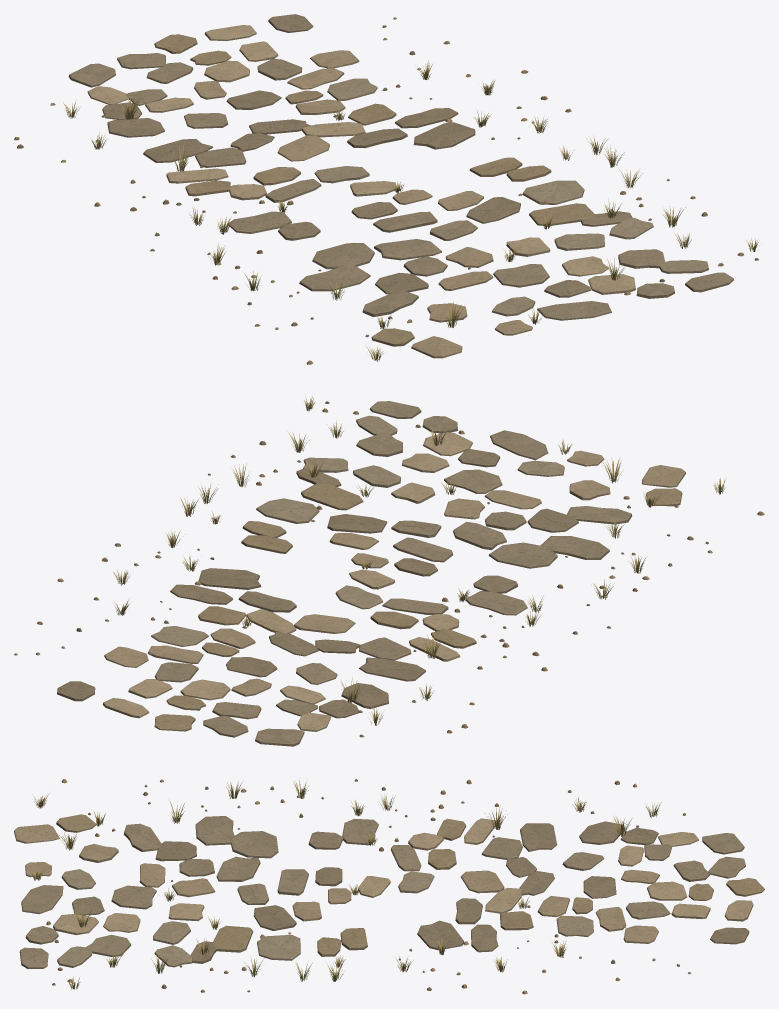
Rendered from foreground_detail.glb.
3 views of the same model, one above another, from view 1: azimuth 30°, elevation 25°; view 2: azimuth 150°, elevation 25°; view 3: azimuth 270°, elevation 25° (orthographic). The views are drawn at different scales.
Visible parts, largest first — view 1: StonePaving.005, DryGrass.005, FineGravel.005; view 2: StonePaving.005, DryGrass.005, FineGravel.005; view 3: StonePaving.005, DryGrass.005, FineGravel.005.
Part boxes in pixels (box(x1,y1,x2,y2)): StonePaving.005: box(68, 14, 733, 358); DryGrass.005: box(63, 60, 758, 361); FineGravel.005: box(14, 17, 758, 364); StonePaving.005: box(57, 401, 685, 746); DryGrass.005: box(113, 396, 725, 725); FineGravel.005: box(14, 401, 764, 737); StonePaving.005: box(14, 814, 764, 969); DryGrass.005: box(31, 778, 661, 989); FineGravel.005: box(46, 779, 690, 994).
Size of the model in its own units: 3.38 by 0.1693 by 4.99.
Materials: 3 (1 with a texture image).
